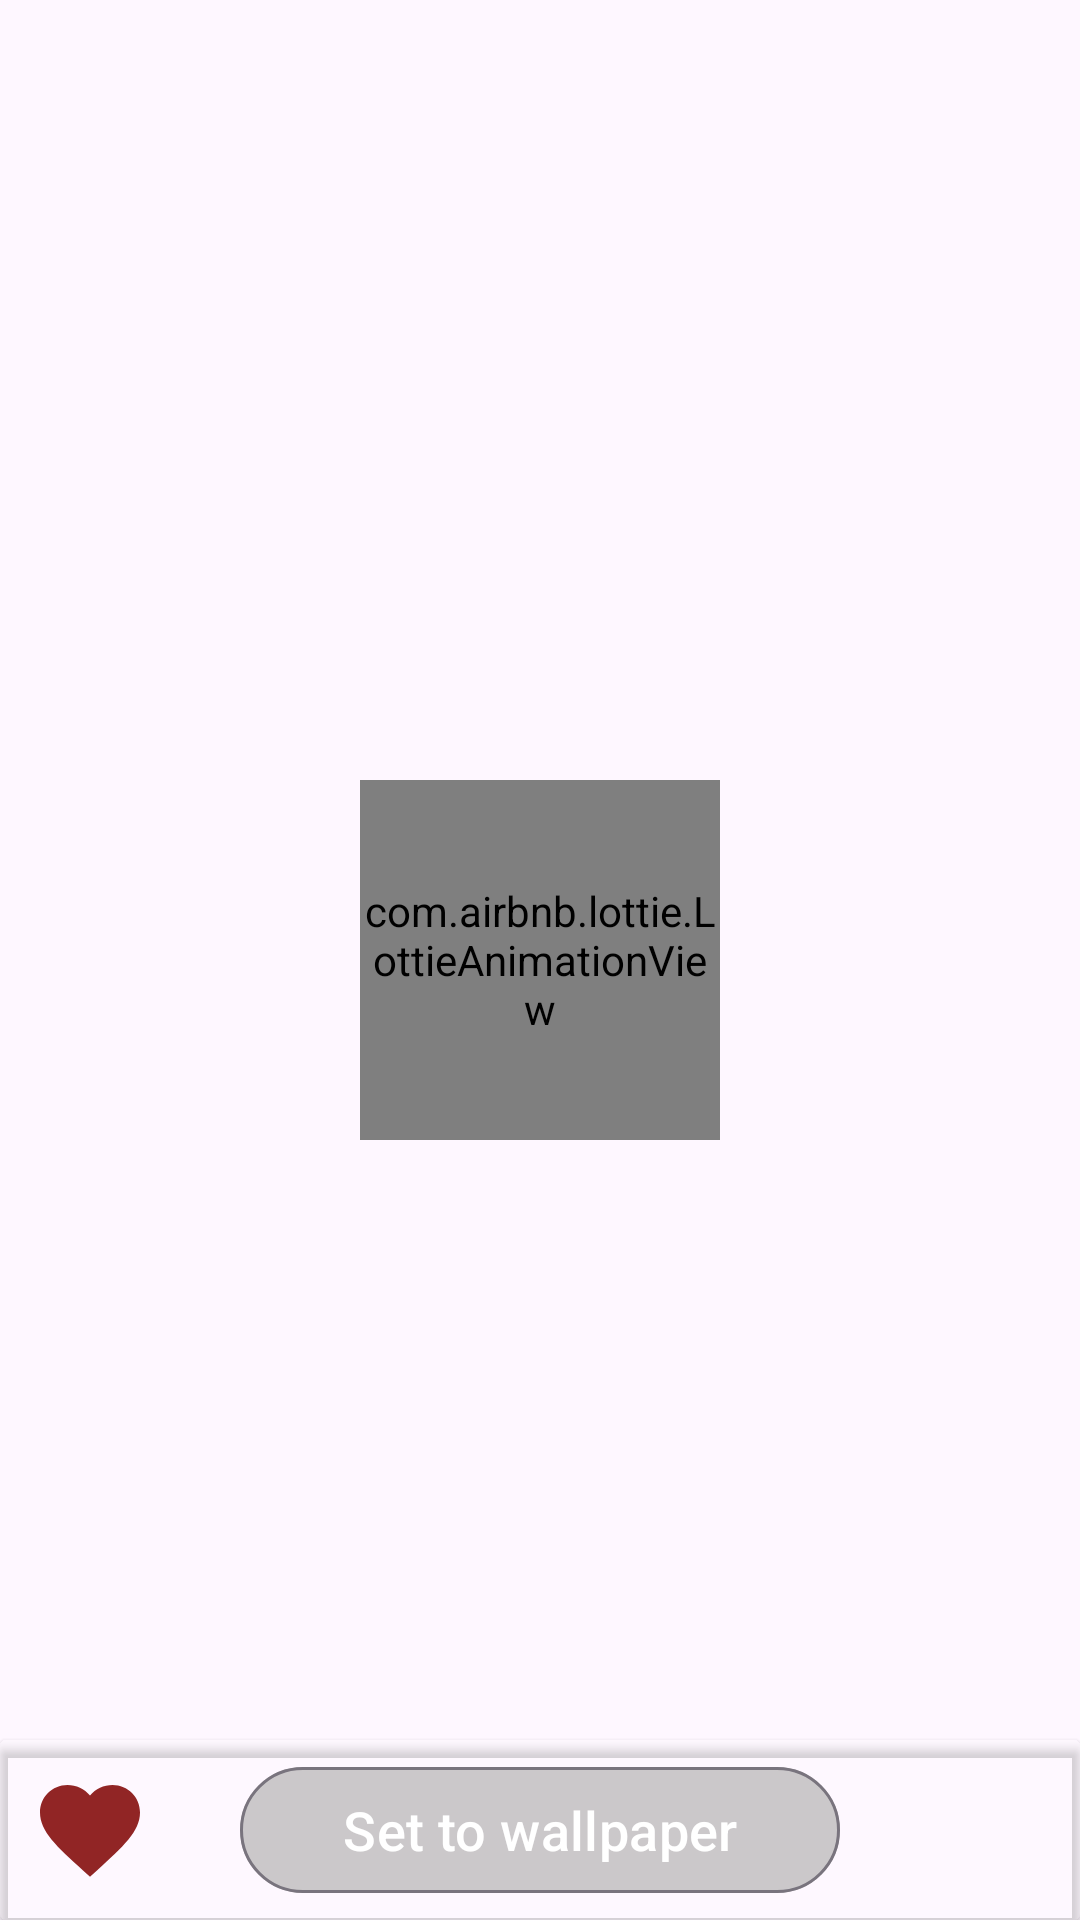

Locate icon controls on the screen. Image size 1080*1920, boxes as Rect(x1, y1, x2, y2).
Add favorite icon: Rect(40, 1785, 140, 1877)
